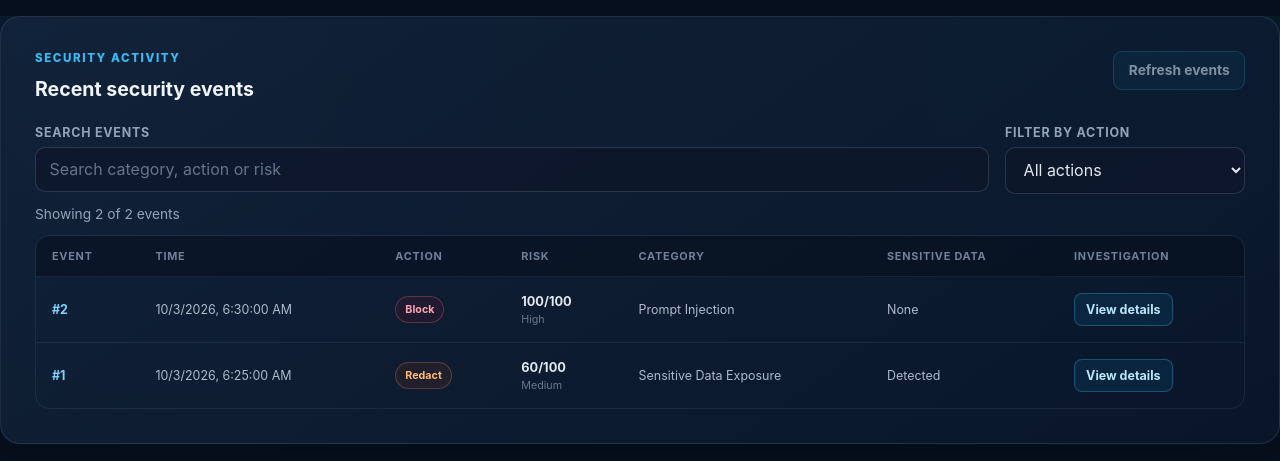
Test: RecentEvents › filters events using the search field
Type "sensitive data" into the search field labelled "Search events".
click(512, 169); type("sensitive data")  # box [35,147,989,192]
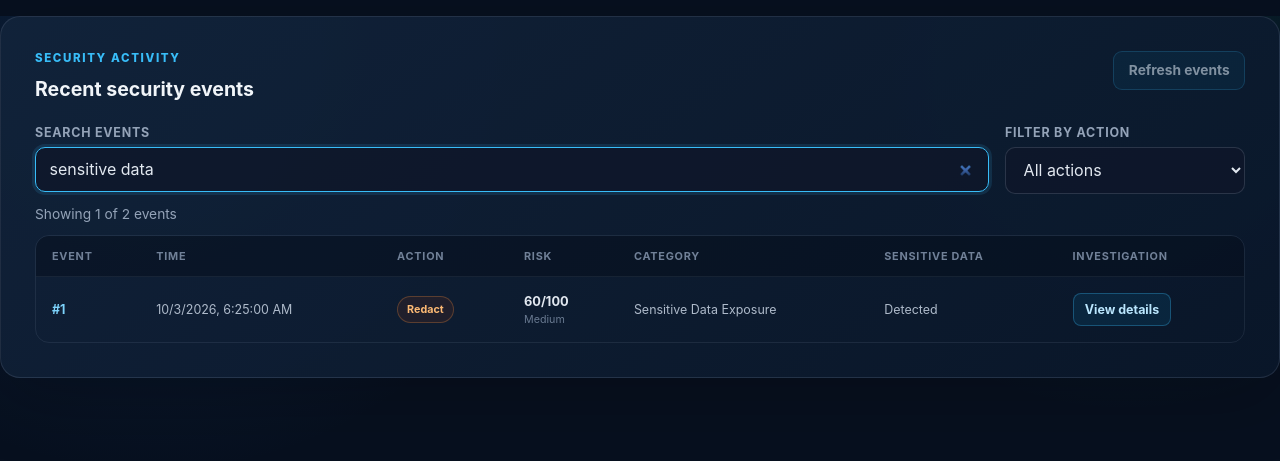
Expected: the text "#1" is shown, [36,277,140,342]
Now the text "#2" is gone
Now the text "Showing 1 of 2 events" is shown, box [35,206,177,222]
